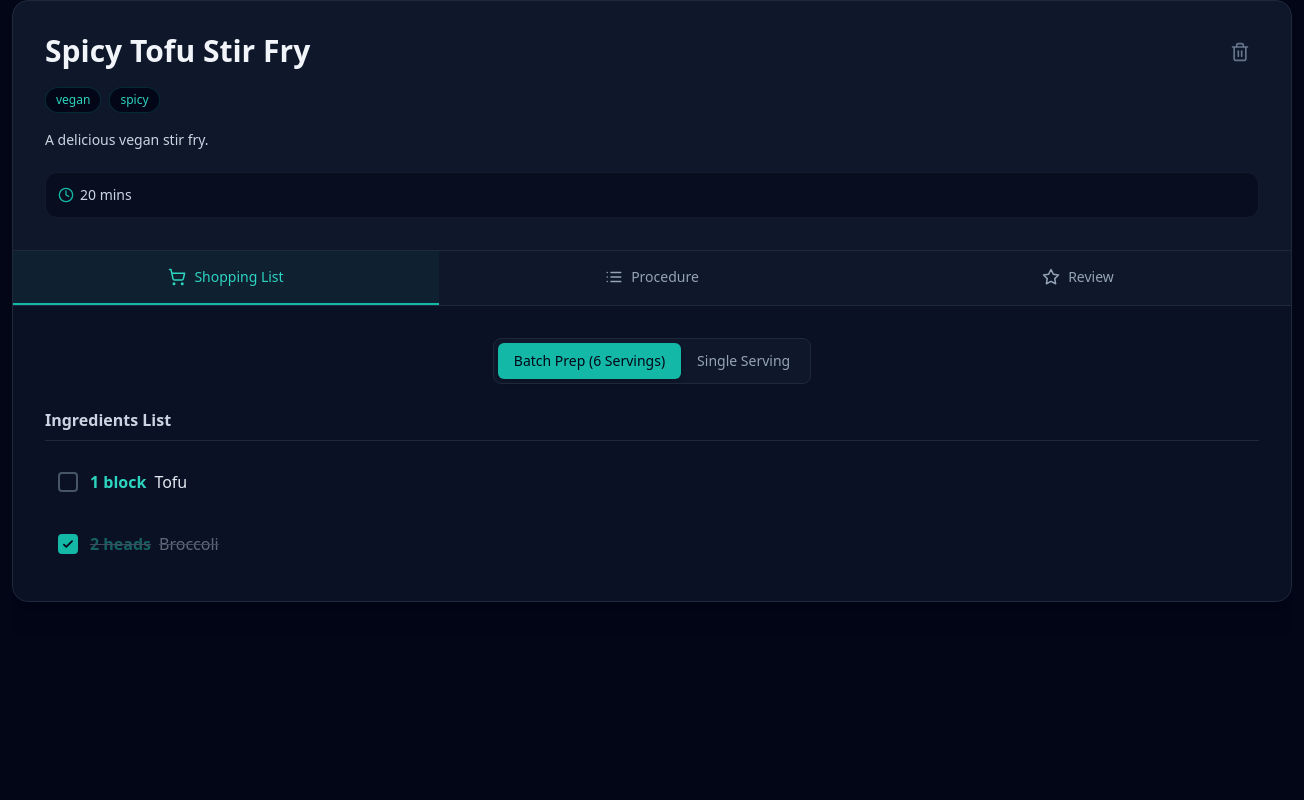
RecipeDetail › toggles between batch and single modes
Expected: the text "1 block" is shown, x1=90 y1=471 x2=146 y2=493
Expected: the text "0.2 block" is not shown
Note: Switch to single mode
Click the button "Single Serving".
click(744, 361)  # box x1=681 y1=343 x2=806 y2=379
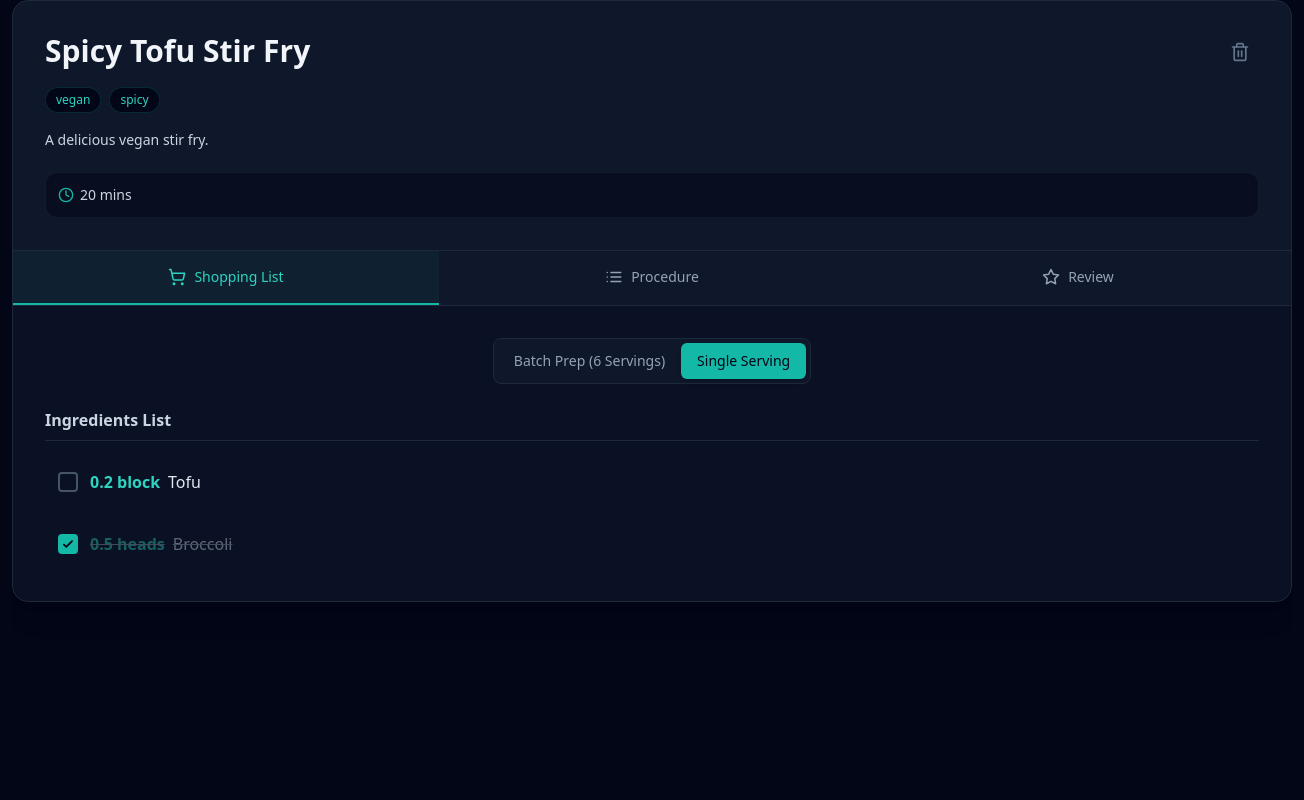
Now the text "0.2 block" is shown, box x1=90 y1=471 x2=160 y2=493
Now the text "1 block" is gone
Note: Check procedure tab respects single mode
Click the button "Procedure".
click(652, 278)  # box x1=439 y1=251 x2=865 y2=305
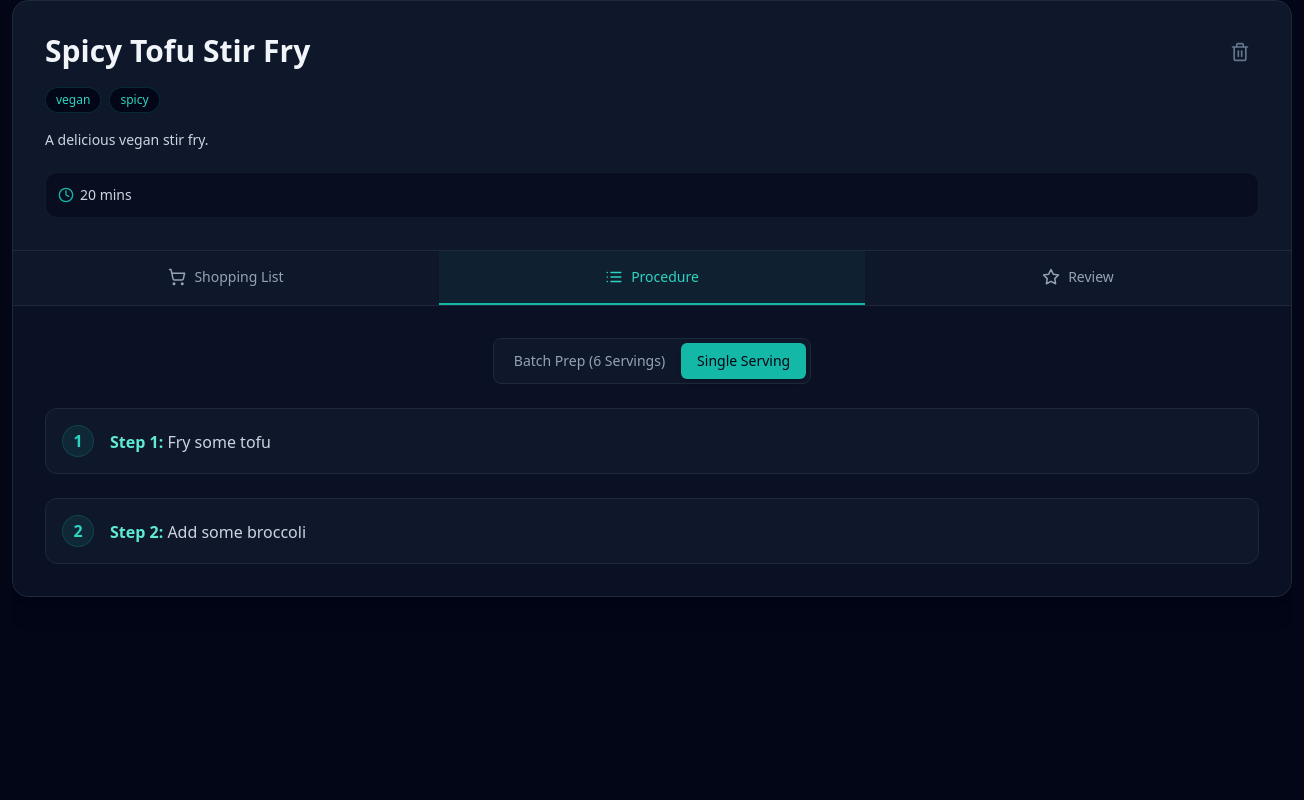
Now the text "Step 1:" is shown, box x1=110 y1=431 x2=167 y2=453
Now the text "Fry some tofu" is shown, box x1=167 y1=431 x2=271 y2=453
